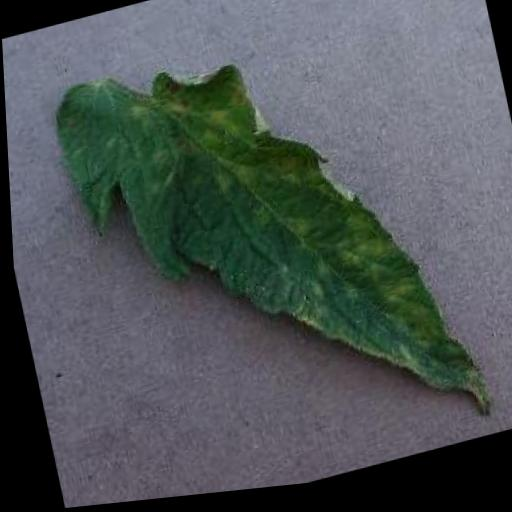Leaf Mold: (43, 3, 488, 509)
